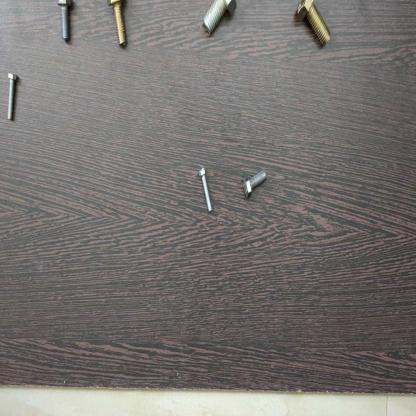Bolts: (294, 0, 332, 48), (202, 0, 238, 49), (105, 0, 132, 55), (196, 163, 219, 212), (240, 164, 269, 202), (52, 0, 76, 43), (6, 70, 18, 122)
